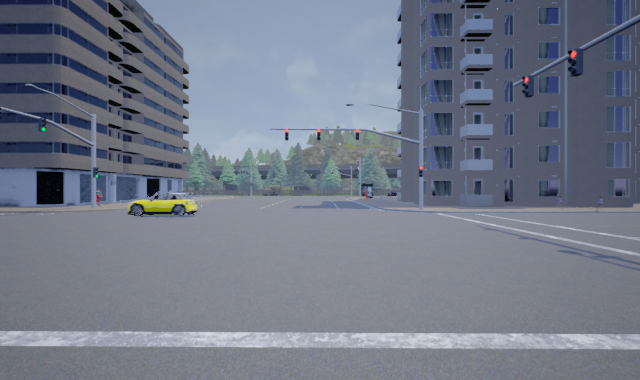pedestrian: (91, 185, 104, 207), (596, 195, 606, 209), (556, 194, 565, 208)
traffic_light: (567, 48, 584, 77), (521, 74, 535, 98), (38, 116, 47, 133), (92, 166, 100, 179), (355, 128, 360, 141), (316, 128, 321, 140), (418, 165, 423, 177), (284, 128, 288, 140)
vehicle: (126, 191, 198, 216)
